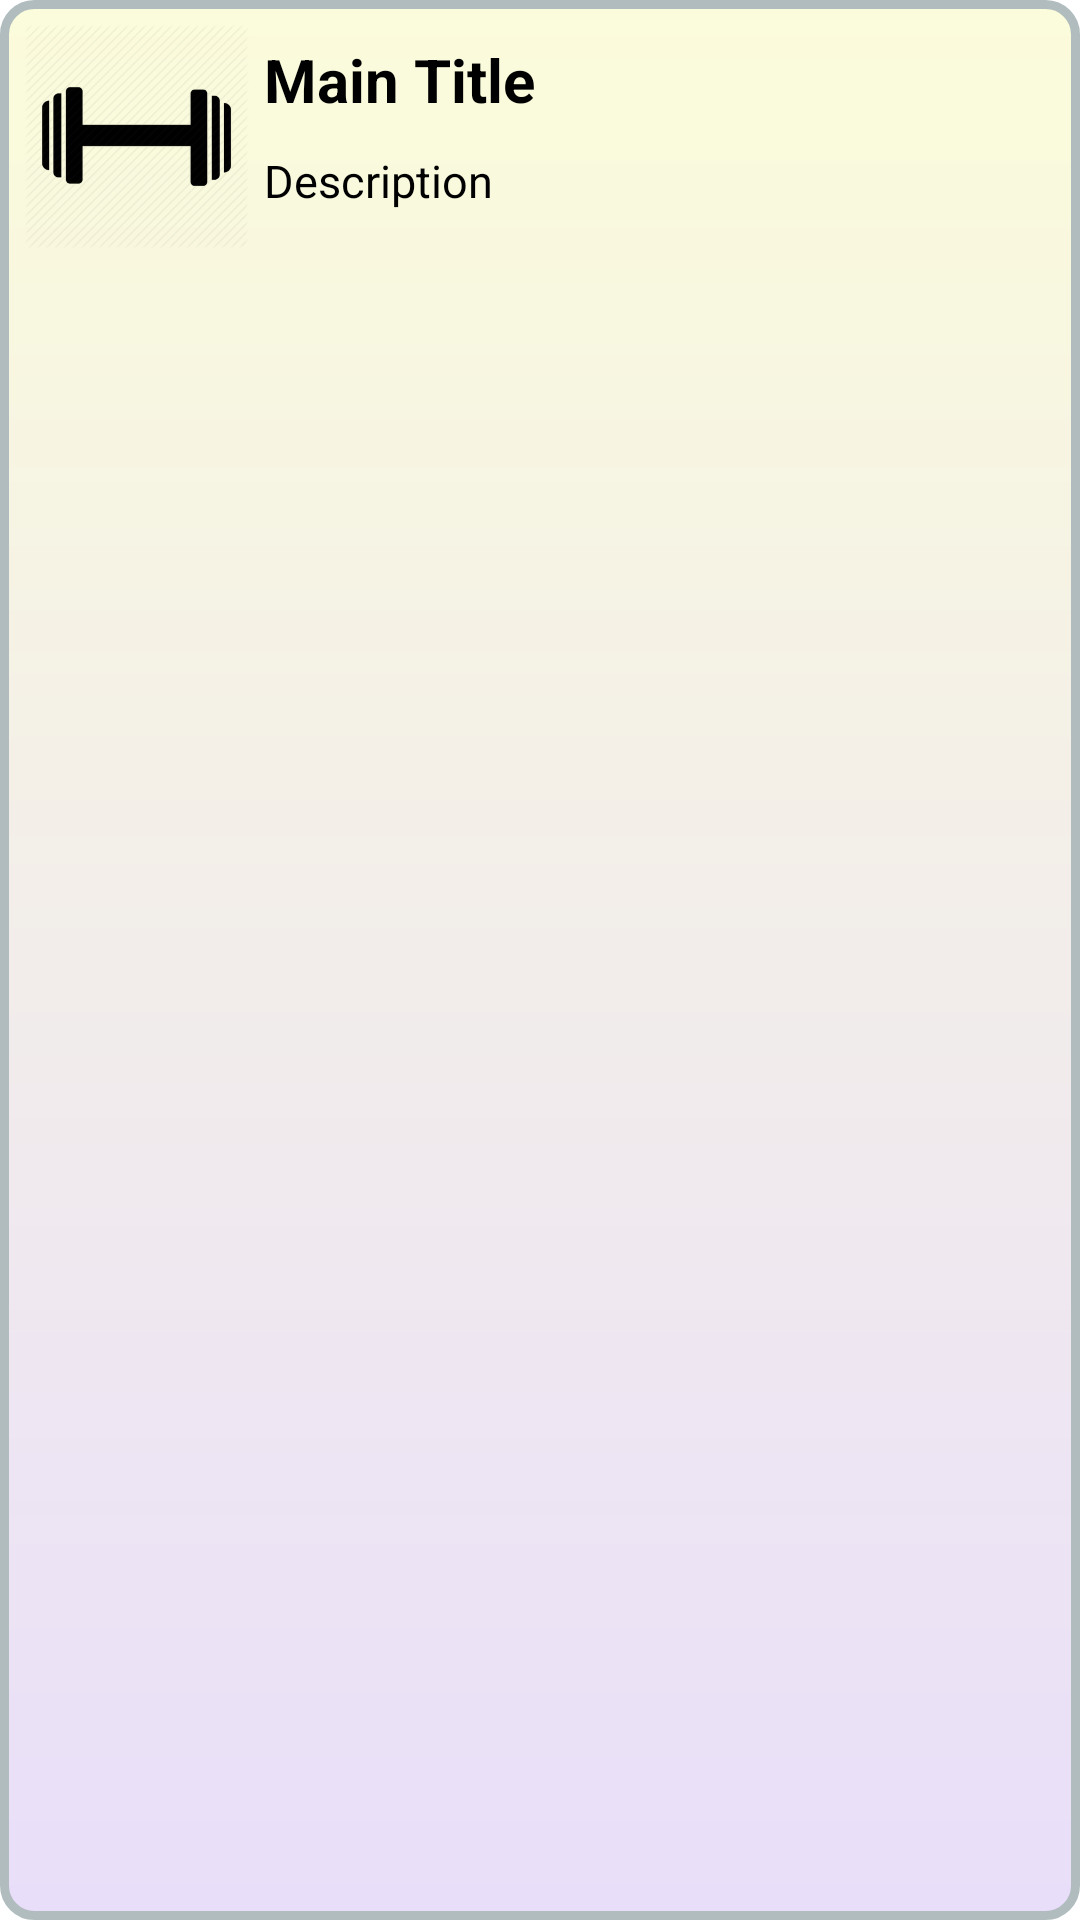

Icon click points for this 1080px x 1920px phone screenshot, format point (x, y):
weight: point (136, 136)
